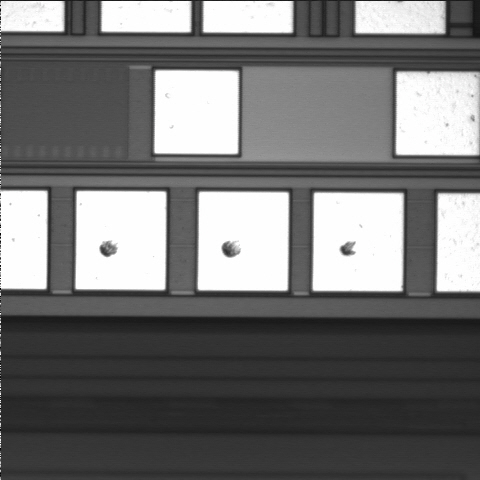pad: (198, 192, 289, 291), (76, 191, 166, 290), (313, 193, 403, 291), (154, 70, 238, 154)
